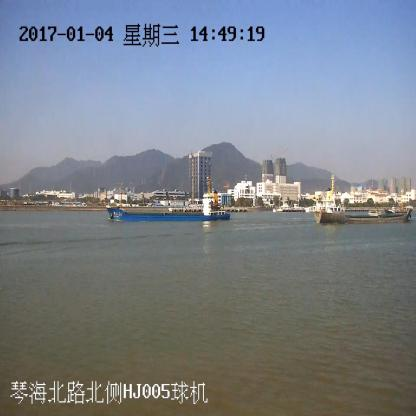Bulk Carrier: (108, 177, 230, 222), (314, 177, 412, 224)
